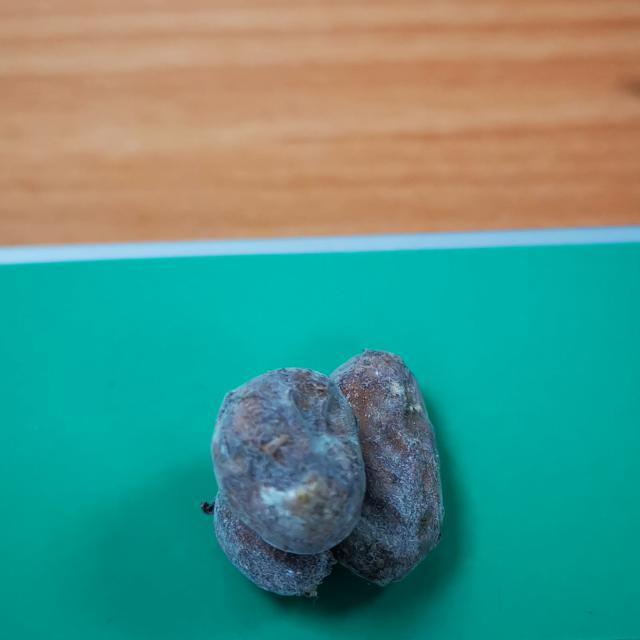Agglomerated_cocoabeans: (80, 312, 568, 640)
